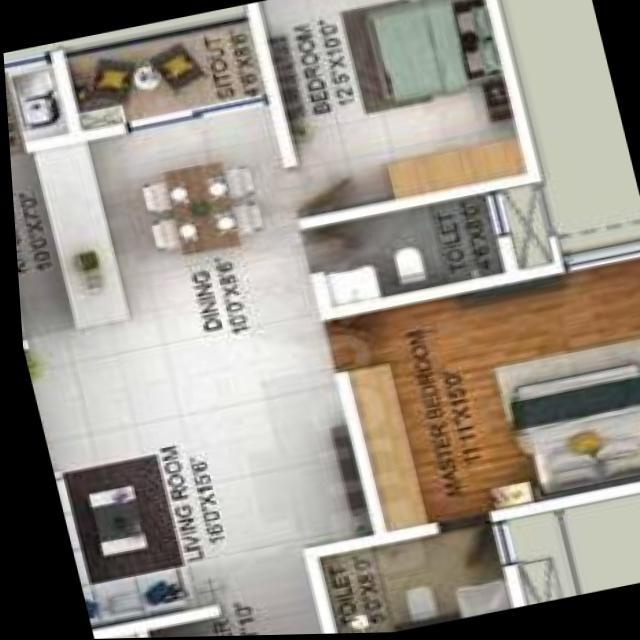Balcony-Sitout: (61, 13, 278, 141)
Bedroom: (244, 0, 540, 231)
Bedroom with Toilet: (310, 243, 640, 545)
Dining: (132, 150, 278, 267)
Enterance-Foyer: (116, 584, 325, 638)
Kitchen: (8, 131, 142, 340)
Living: (18, 316, 215, 639)
Toilet: (292, 185, 522, 322), (291, 509, 518, 635)
Utility: (3, 48, 86, 156)
